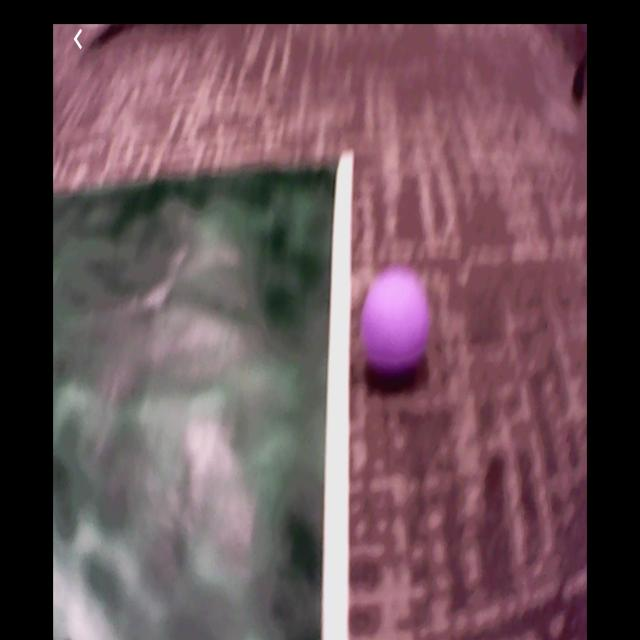ball: (362, 271, 428, 373)
